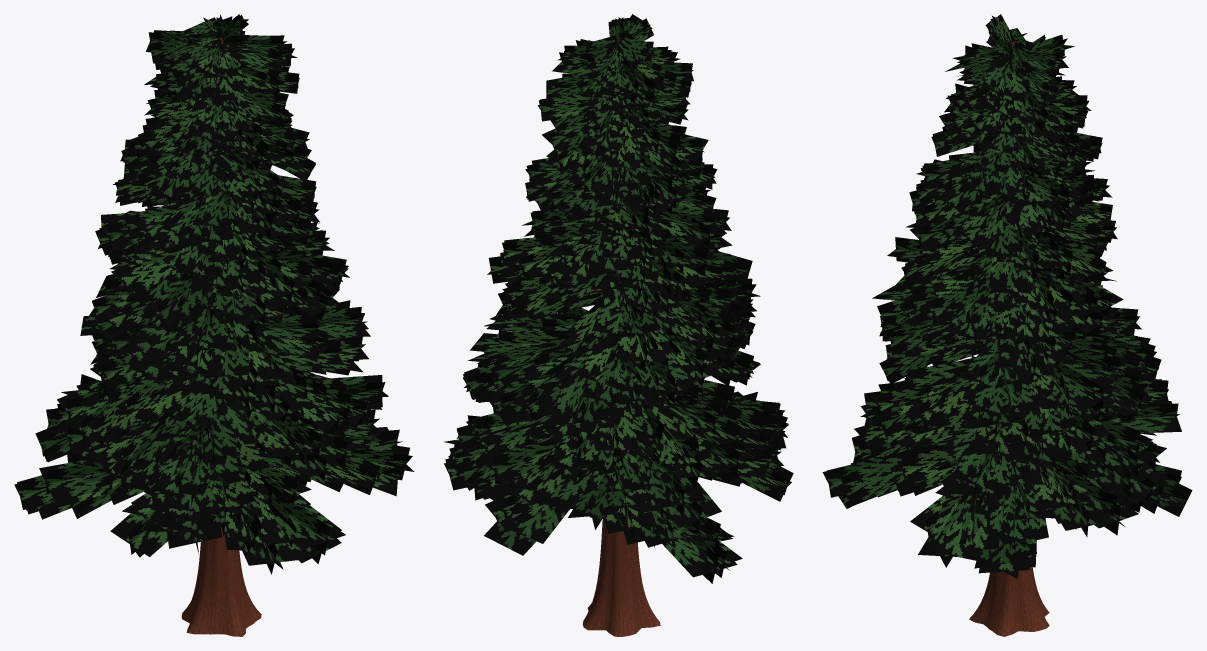
The model's file is redwood-1.glb.
The picture shows the model from 3 angles, left to right: view 1: azimuth 30°, elevation 25°; view 2: azimuth 150°, elevation 25°; view 3: azimuth 270°, elevation 25°; orthographic projection. The views are drawn at different scales.
Visible parts, largest first — view 1: redwood-1_RedwoodFoliage, redwood-1_RedwoodBark; view 2: redwood-1_RedwoodFoliage, redwood-1_RedwoodBark; view 3: redwood-1_RedwoodFoliage, redwood-1_RedwoodBark.
Boxes of the visible parts, x1,y1,x2,y2 form: redwood-1_RedwoodFoliage: (14, 14, 414, 574); redwood-1_RedwoodBark: (181, 37, 261, 636); redwood-1_RedwoodFoliage: (444, 14, 793, 583); redwood-1_RedwoodBark: (582, 40, 660, 636); redwood-1_RedwoodFoliage: (822, 14, 1192, 578); redwood-1_RedwoodBark: (969, 41, 1049, 636).
Size of the model in its own units: 23.49 by 41.26 by 23.18.
2 materials, 2 textured.
